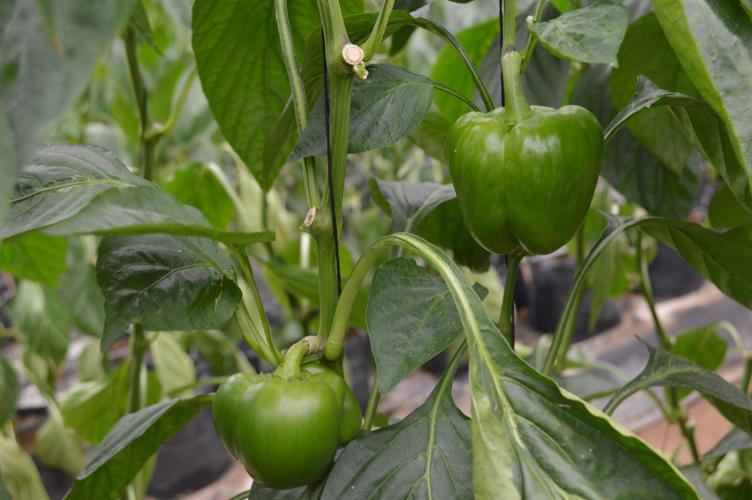BellPepper: (448, 100, 604, 260), (208, 365, 360, 484)
